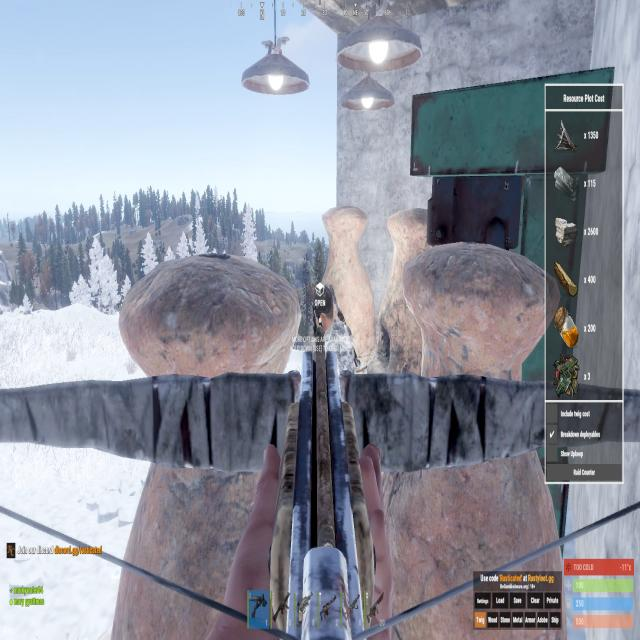Player: (308, 280, 359, 382)
